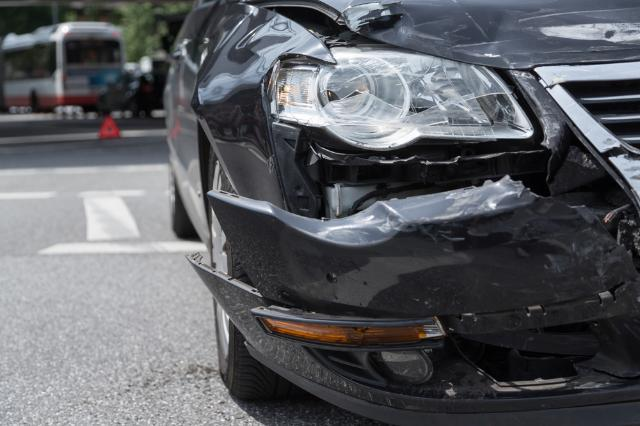crack: (574, 365, 640, 381)
dent: (198, 10, 325, 199), (343, 0, 640, 67)
dislocated part: (190, 105, 639, 423)
lamp broken: (258, 46, 535, 149)
scratch: (372, 186, 617, 280)
